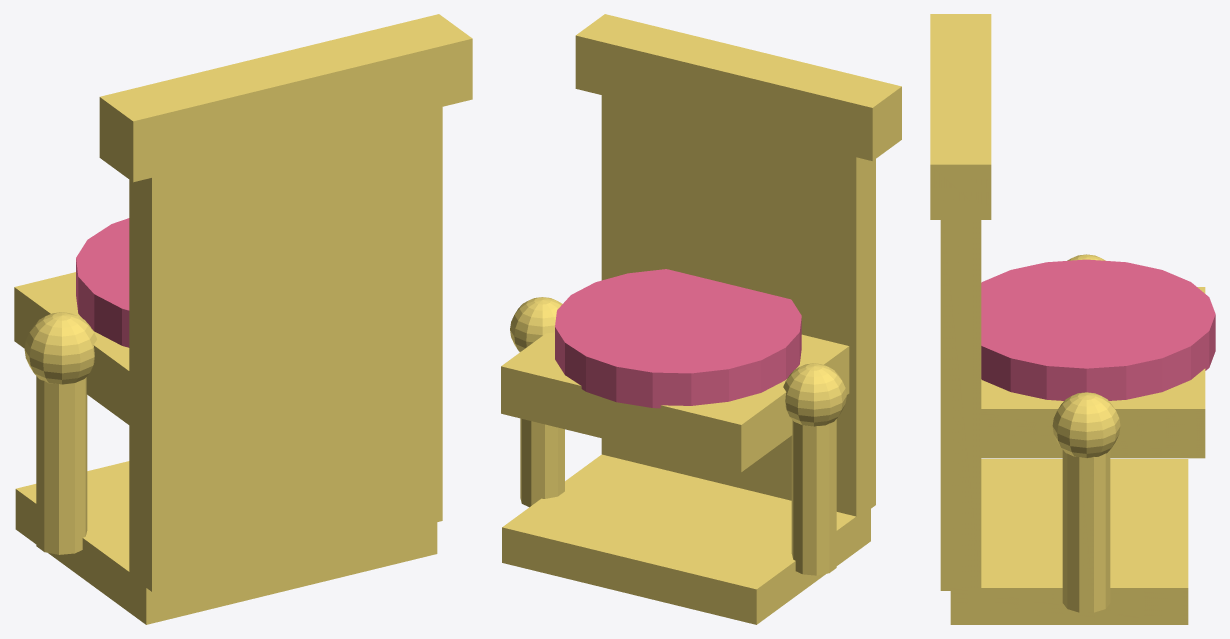
The model's file is throne_gold.glb.
The picture shows the model from 3 angles, left to right: view 1: azimuth 30°, elevation 25°; view 2: azimuth 150°, elevation 25°; view 3: azimuth 270°, elevation 25°; orthographic projection. The views are drawn at different scales.
Visible parts, largest first — view 1: ThroneGold; view 2: ThroneGold; view 3: ThroneGold.
Part boxes in pixels (left/top/right/bottom): ThroneGold: left=14, top=14, right=472, bottom=624; ThroneGold: left=501, top=14, right=901, bottom=624; ThroneGold: left=930, top=14, right=1215, bottom=624.
Bounding box in the file's own units: 1.16 × 1.53 × 0.84.
